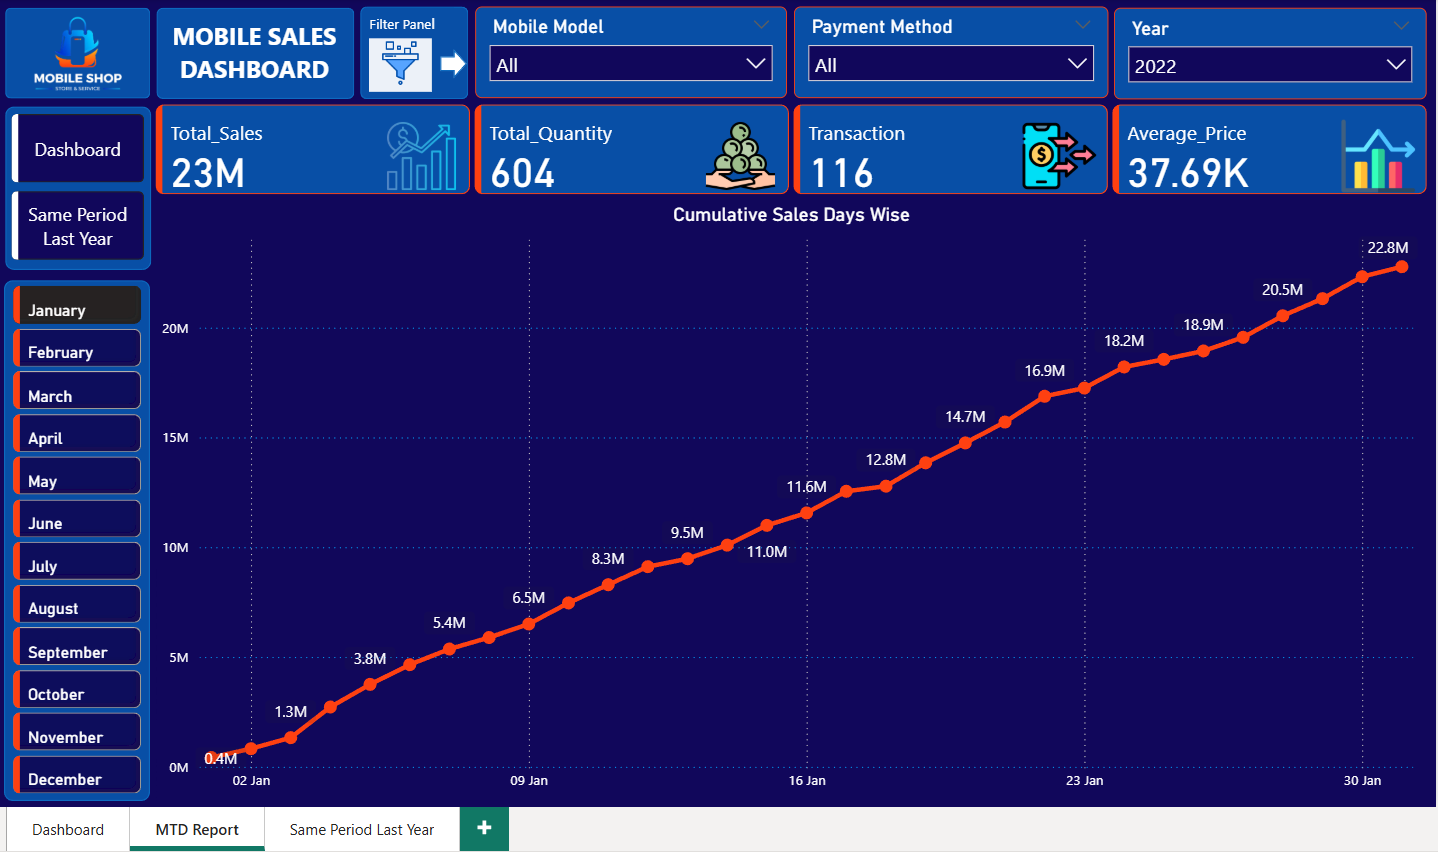

What the dashboard file says about the page in this screenshot:
{"tool":"powerbi","page":{"name":"MTD Report","canvas":[1280,720],"ordinal":1},"visuals":[{"type":"shape","box":[6,7.2,129.1,80.8],"z":0},{"type":"image","box":[13.3,0,113.3,103.3],"z":1000},{"type":"shape","box":[5.6,95.6,130,145.6],"z":2000},{"type":"cardVisual","fields":{"Data":["mobile sales data.Total_Sales","mobile sales data.Total_Quantity","mobile sales data.Transaction","mobile sales data.Average_Price"]},"box":[135,88.8,1145,90],"z":3000},{"type":"slicer","title":"Mobile Model","fields":{"Values":["mobile sales data.Mobile Model"]},"box":[423.8,6.2,277.5,81.2],"z":4000},{"type":"slicer","fields":{"Values":["mobile sales data.Payment Method"]},"box":[707.5,6.2,280,81.2],"z":5000},{"type":"slicer","fields":{"Values":["Custom_calendar.Date.Variation.Date Hierarchy.Year"]},"box":[992.5,7.5,278.8,81.2],"z":6000},{"type":"shape","box":[321.2,6.2,96.2,82.5],"z":7000},{"type":"image","box":[330,32.5,56.2,50],"z":8000},{"type":"shape","box":[392.5,45,23.8,26.2],"z":9000},{"type":"textbox","box":[325,7.5,80,27.5],"z":10000},{"type":"shape","box":[140,7.5,176.2,81.2],"z":11000},{"type":"textbox","box":[137.5,13.8,178.8,70],"z":12000},{"type":"lineChart","title":"Cumulative Sales Days Wise","fields":{"Y":["mobile sales data.MTD"],"Category":["Custom_calendar.Date.Variation.Date Hierarchy.Year","Custom_calendar.Date.Variation.Date Hierarchy.Quarter","Custom_calendar.Date.Variation.Date Hierarchy.Month","Custom_calendar.Date.Variation.Date Hierarchy.Day"]},"box":[140,181.2,1131.2,532.5],"z":13000},{"type":"shape","box":[5,250,130,463.8],"z":14000},{"type":"advancedSlicerVisual","fields":{"Values":["Custom_calendar.Date.Variation.Date Hierarchy.Month"]},"box":[8.4,249.7,125.5,463.3],"z":15000},{"type":"pageNavigator","box":[11.2,102.5,118.8,131.2],"z":15001}]}

Visuals, with their boxes on the page's 1280x720 design canvas (x1, y1, x2, y2). These are canvas units, not pixel positions in the 1438x852 screenshot, which may show the page scaled, cropped or inside an application window:
shape: (6,7,135,88)
image: (13,0,127,103)
shape: (6,96,136,241)
cardVisual - mobile sales data.Total_Sales x mobile sales data.Total_Quantity: (135,89,1280,179)
"Mobile Model" slicer: (424,6,701,87)
slicer - mobile sales data.Payment Method: (708,6,988,87)
slicer - Custom_calendar.Date.Variation.Date Hierarchy.Year: (992,8,1271,89)
shape: (321,6,417,89)
image: (330,32,386,82)
shape: (392,45,416,71)
textbox: (325,8,405,35)
shape: (140,8,316,89)
textbox: (138,14,316,84)
"Cumulative Sales Days Wise" lineChart: (140,181,1271,714)
shape: (5,250,135,714)
advancedSlicerVisual - Custom_calendar.Date.Variation.Date Hierarchy.Month: (8,250,134,713)
pageNavigator: (11,102,130,234)
